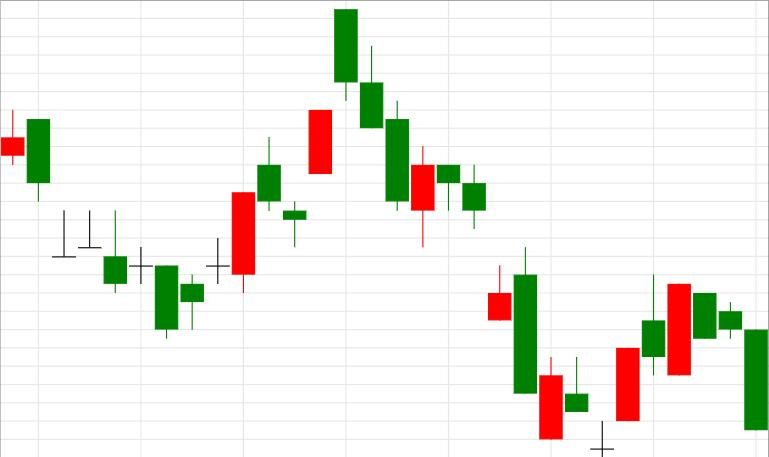morning_star_rise: (334, 9, 639, 457)
